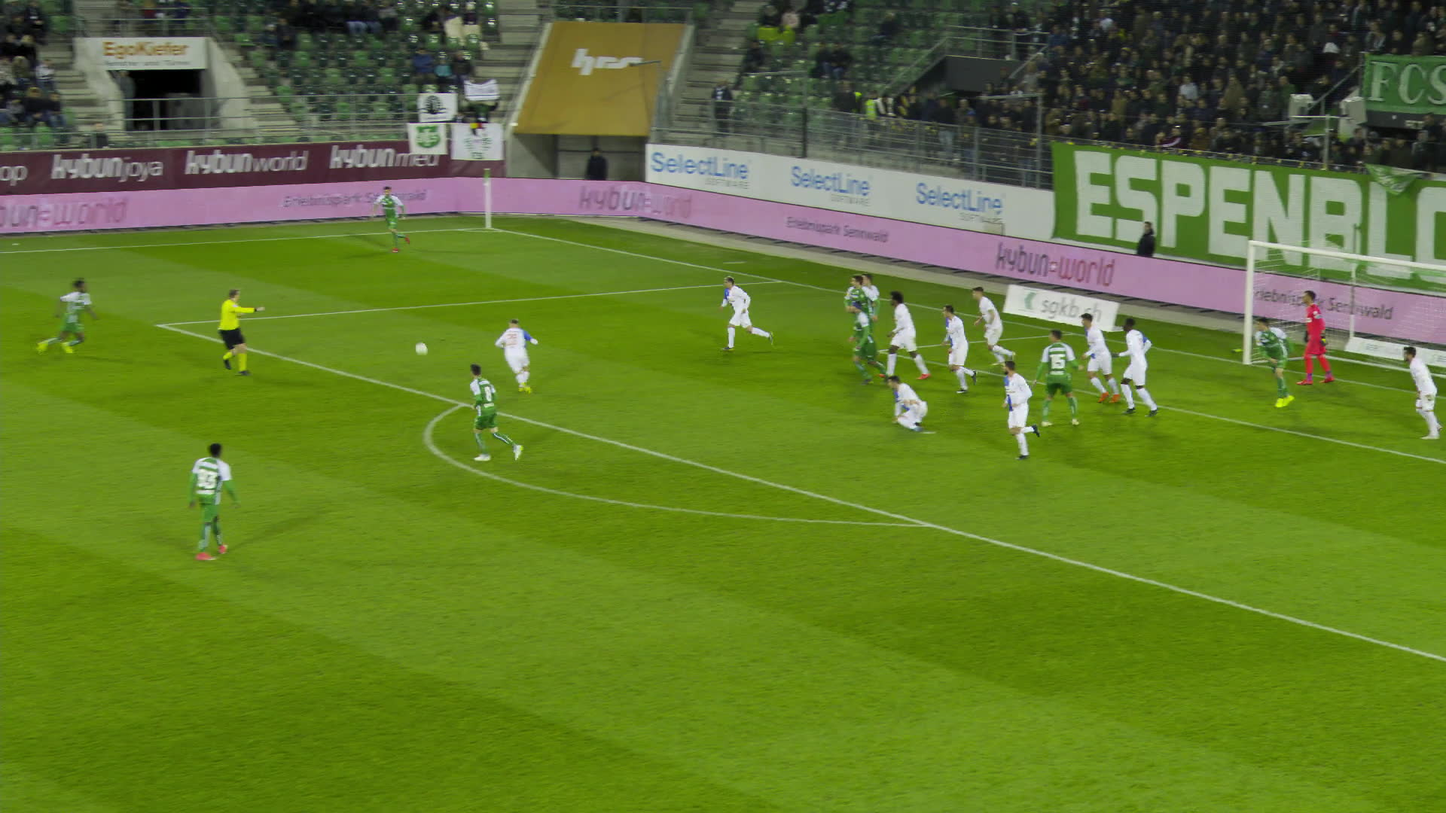ball: (414, 349, 431, 361)
player: (175, 443, 230, 563), (27, 277, 93, 358), (1020, 330, 1072, 429), (459, 367, 511, 463), (1105, 318, 1154, 419), (871, 291, 921, 382), (1285, 293, 1329, 388), (1243, 322, 1289, 410), (1068, 312, 1112, 404), (1393, 347, 1435, 441), (834, 301, 879, 388), (993, 360, 1031, 460), (716, 278, 764, 353), (962, 287, 1002, 367), (832, 277, 865, 373), (935, 301, 969, 391), (484, 321, 524, 394), (877, 376, 923, 435), (843, 275, 872, 351), (366, 187, 398, 254)
referee: (205, 289, 252, 376)
